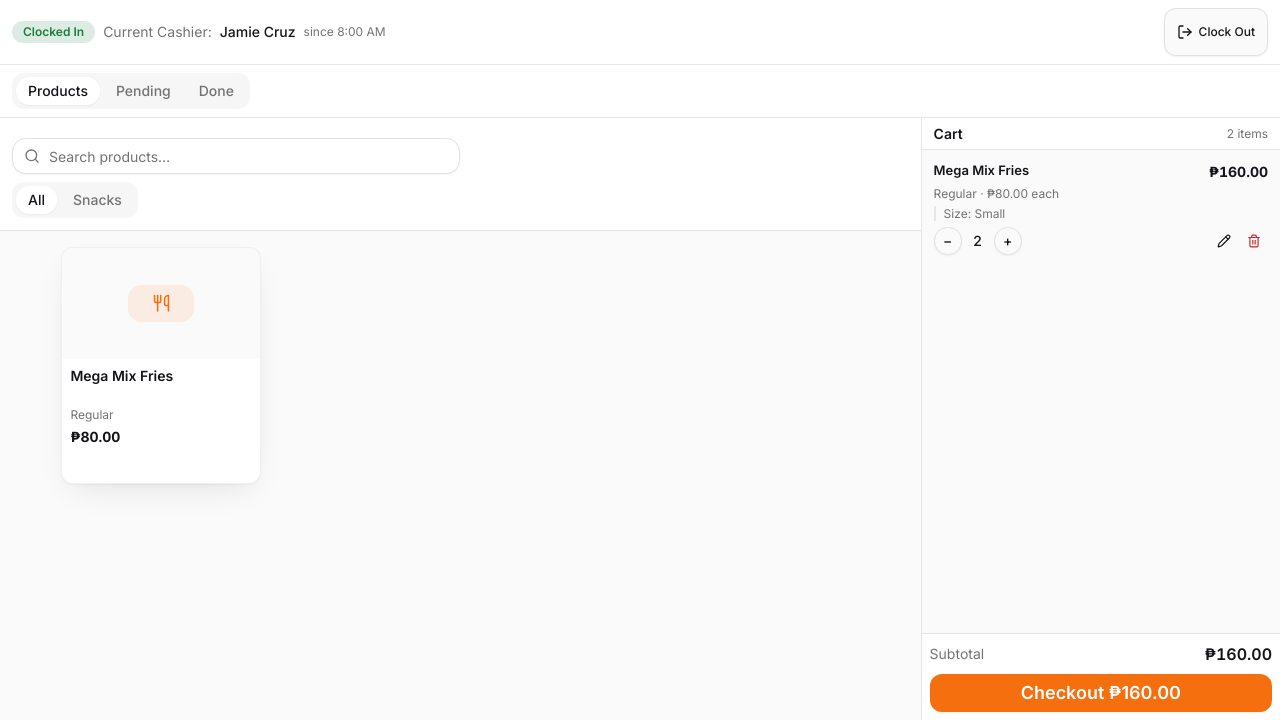
Scenario: TerminalPage — Edit reuses the Add-ons dialog to change a cart line (Task 108) › Cancel from edit mode leaves the cart untouched
The width and height of the screenshot is (1280, 720).
Click the button named "Edit" at x=1224, y=241, box 1210,227 -> 1238,255
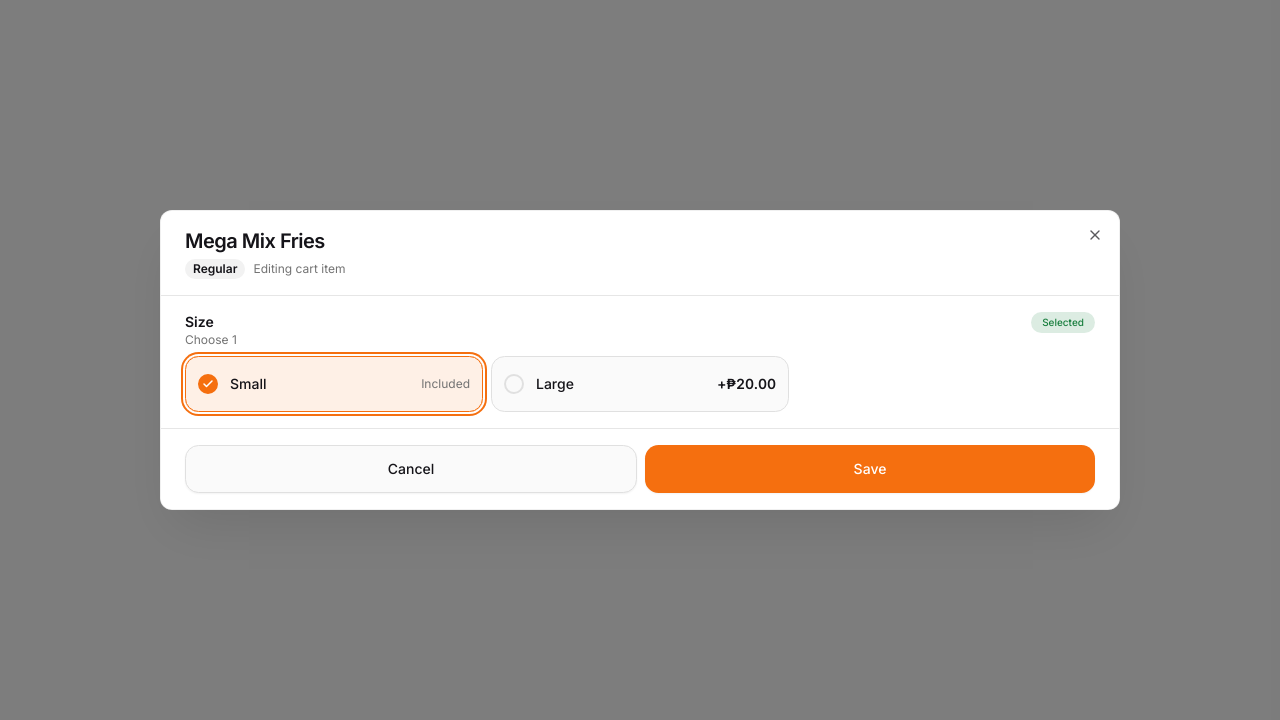
Click the button "Cancel" at x=411, y=469, box 185,445 -> 637,493
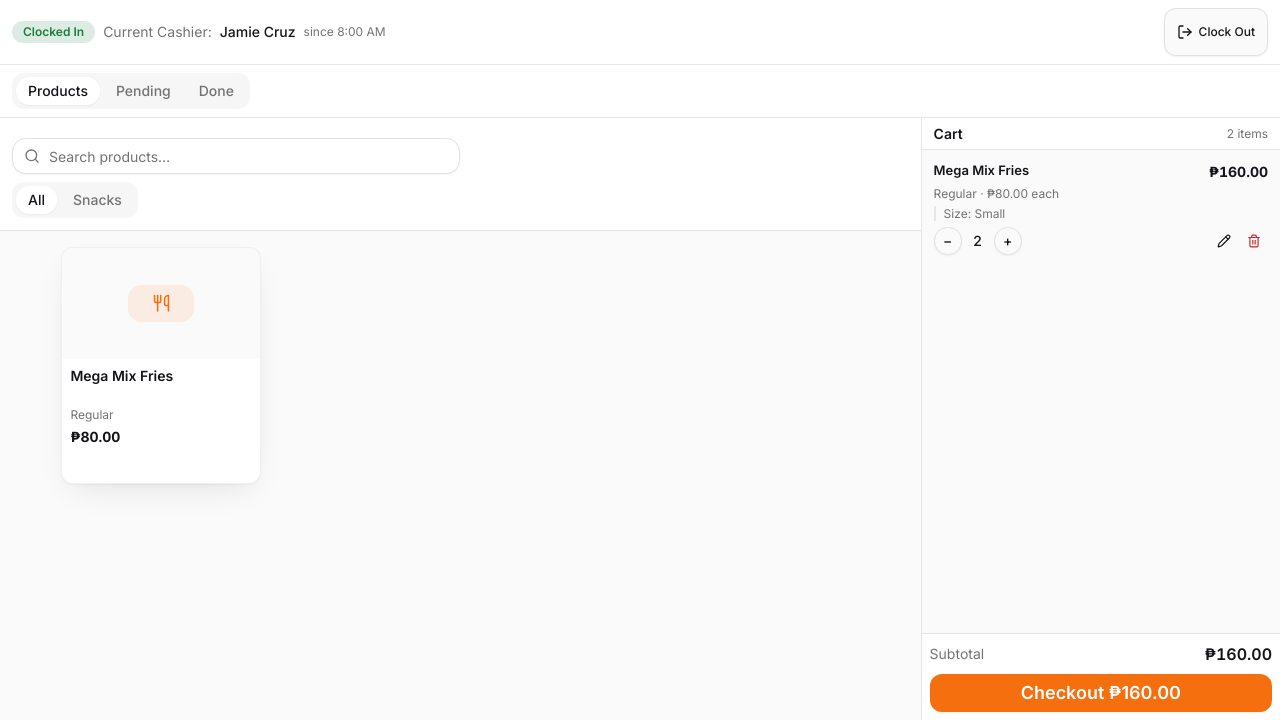
Check: the button "Save" is gone
